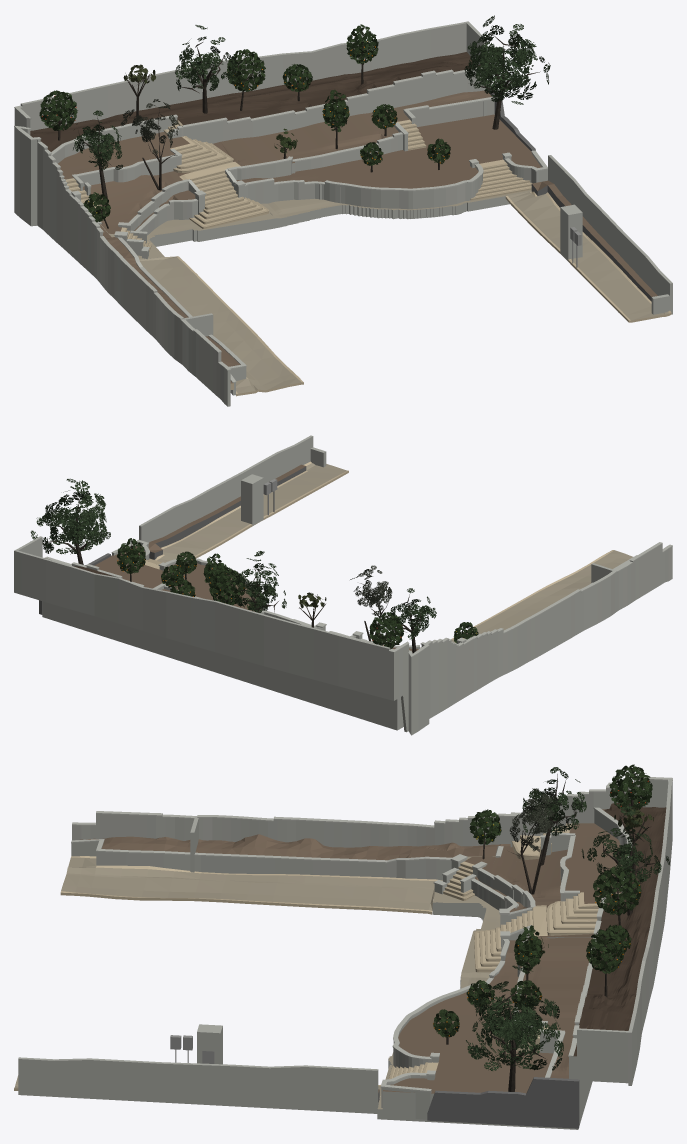
File: reconstruction-f03595e1b9a6.glb
3 views of the same model, one above another, from view 1: azimuth 30°, elevation 25°; view 2: azimuth 150°, elevation 25°; view 3: azimuth 270°, elevation 25° (orthographic). The views are drawn at different scales.
Visible parts, largest first — view 1: ground-terraces, wall-west-boundary-rear, wall-rear-boundary, ground-side-west, wall-we, ground-side-east, wall-wa, planting-tree-14, wall-east-side-boundary, wall-wb, planting-tree-03, flight-m1 (+21 smaller); view 2: wall-rear-boundary, wall-west-boundary-rear, ground-terraces, wall-east-side-boundary, ground-side-east, planting-tree-14, ground-side-west, planting-tree-03, planter-fill-east-side, coping-west-boundary-rear, planting-tree-02, equipment-east-furnace-enclosure (+4 smaller); view 3: ground-terraces, ground-side-west, wall-east-side-boundary, wall-west-boundary-rear, wall-west-side-retaining, slot-filler-east, planting-tree-14, wall-rear-boundary, wall-rear-boundary-return-east, planting-tree-03, planting-tree-01, coping-west-boundary-rear (+21 smaller).
Boxes of the visible parts, x1,y1,x2,y2 form: ground-terraces: (30,52,541,259); wall-west-boundary-rear: (14,108,230,406); wall-rear-boundary: (20,21,469,130); ground-side-west: (99,224,303,396); wall-we: (183,71,486,143); ground-side-east: (505,191,671,322); wall-wa: (99,153,547,235); planting-tree-14: (464,15,550,129); wall-east-side-boundary: (548,155,672,314); wall-wb: (131,100,494,230); planting-tree-03: (175,25,239,113); flight-m1: (180,166,268,228); wall-rear-boundary: (14,550,390,699); wall-west-boundary-rear: (388,544,672,735); ground-terraces: (42,546,418,730); wall-east-side-boundary: (139,435,326,542); ground-side-east: (155,461,348,562); planting-tree-14: (30,478,110,564); ground-side-west: (451,550,632,642); planting-tree-03: (226,551,286,612); planter-fill-east-side: (148,464,306,559); coping-west-boundary-rear: (388,542,672,657); planting-tree-02: (385,588,436,653); equipment-east-furnace-enclosure: (241,474,263,525); ground-terraces: (377,803,666,1129); ground-side-west: (60,834,497,914); wall-east-side-boundary: (18,1057,378,1113); wall-west-boundary-rear: (72,779,672,857); wall-west-side-retaining: (71,841,451,880); slot-filler-east: (427,1077,579,1128); planting-tree-14: (466,965,563,1091); wall-rear-boundary: (628,779,672,1085); wall-rear-boundary-return-east: (577,1028,628,1078); planting-tree-03: (581,805,669,915); planting-tree-01: (509,788,573,894); coping-west-boundary-rear: (72,777,672,828).
Bounding box in the file's own units: 36.47 × 10.51 × 35.19.
18 materials, 9 textured.
